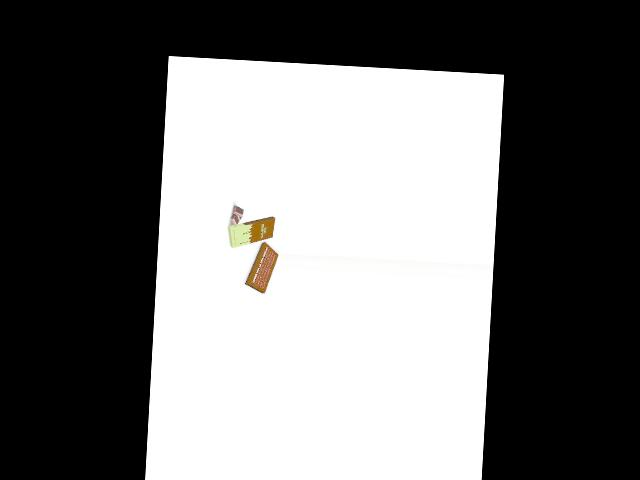chocolate: (225, 217, 276, 247)
